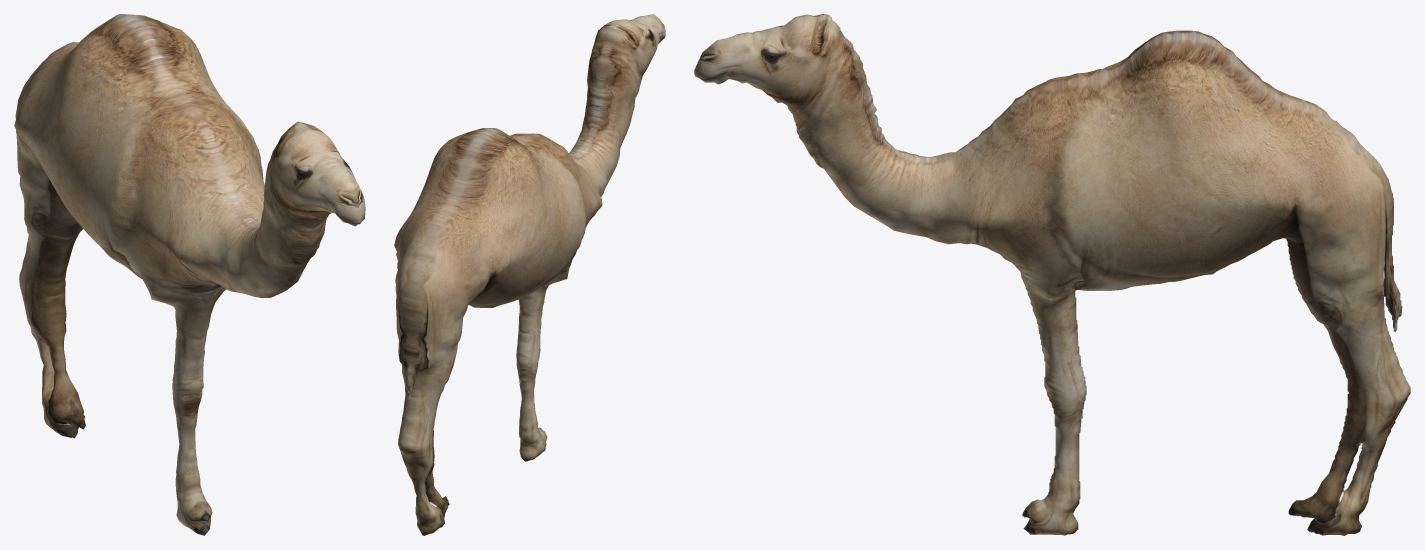
The model's file is dromadaire.glb.
3 renders of one model, left to right at view 1: azimuth 30°, elevation 25°; view 2: azimuth 150°, elevation 25°; view 3: azimuth 270°, elevation 25°, orthographic. The views are drawn at different scales.
Visible parts, largest first — view 1: dromadaire; view 2: dromadaire; view 3: dromadaire.
Part boxes in pixels (<box>): dromadaire: <box>14,14,365,535</box>; dromadaire: <box>394,14,665,535</box>; dromadaire: <box>694,14,1410,535</box>.
Bounding box in the file's own units: 0.6945 × 2.1 × 2.62.
Materials: 1 (1 with a texture image).
